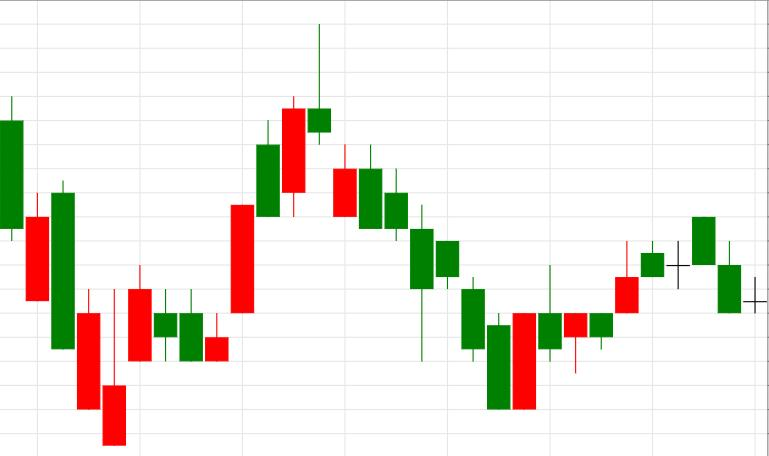bullish_engulfing_rise: (359, 145, 536, 411)
shooting_star_fall: (205, 23, 331, 362)
